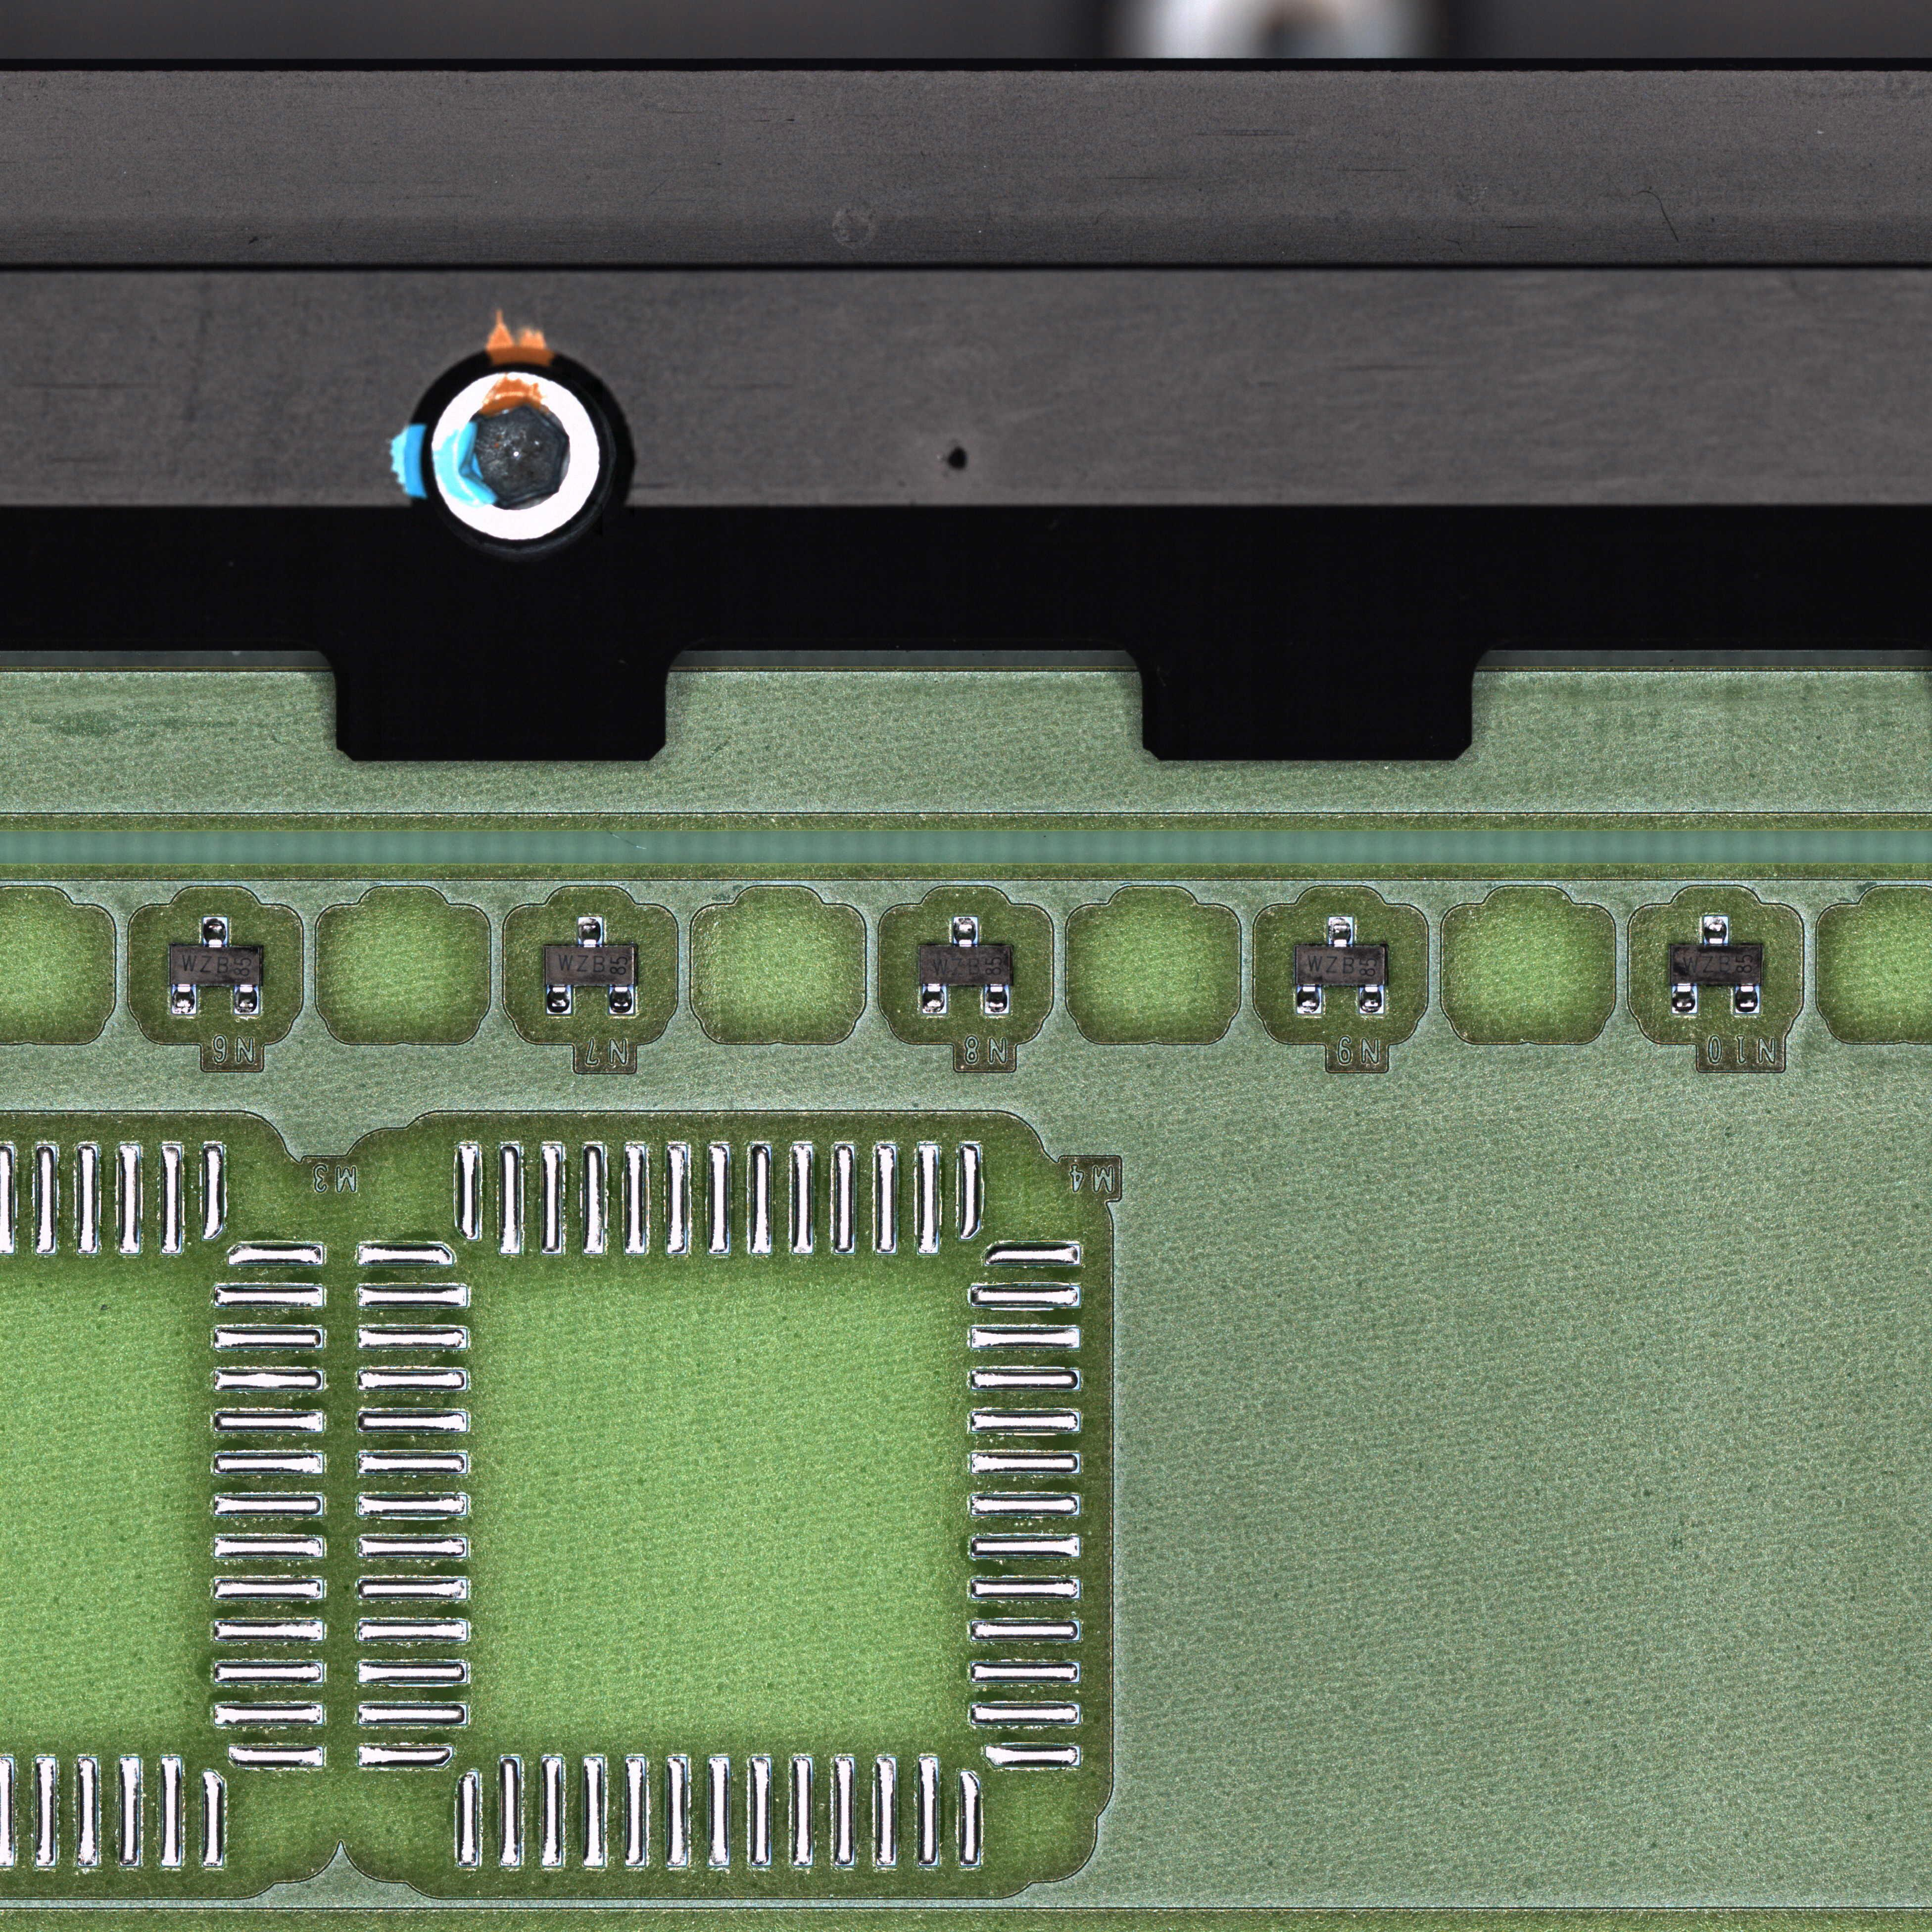Package: (920, 947, 1010, 984), (545, 948, 635, 985), (1672, 945, 1760, 982), (1297, 948, 1385, 985), (172, 947, 260, 984)
Solder: (577, 916, 603, 948), (1734, 984, 1760, 1014), (1327, 916, 1353, 947), (1702, 916, 1729, 945), (1672, 984, 1697, 1014), (984, 984, 1008, 1014), (922, 984, 947, 1014), (954, 916, 978, 947), (547, 985, 571, 1016), (609, 985, 633, 1016), (203, 916, 228, 947), (1359, 985, 1384, 1014), (1297, 985, 1322, 1014), (234, 985, 258, 1014), (172, 985, 196, 1014)
